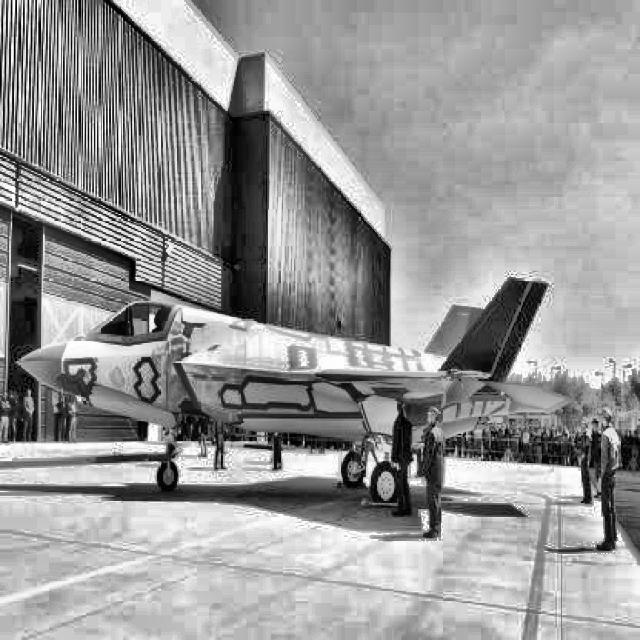F35: (14, 276, 574, 507)
